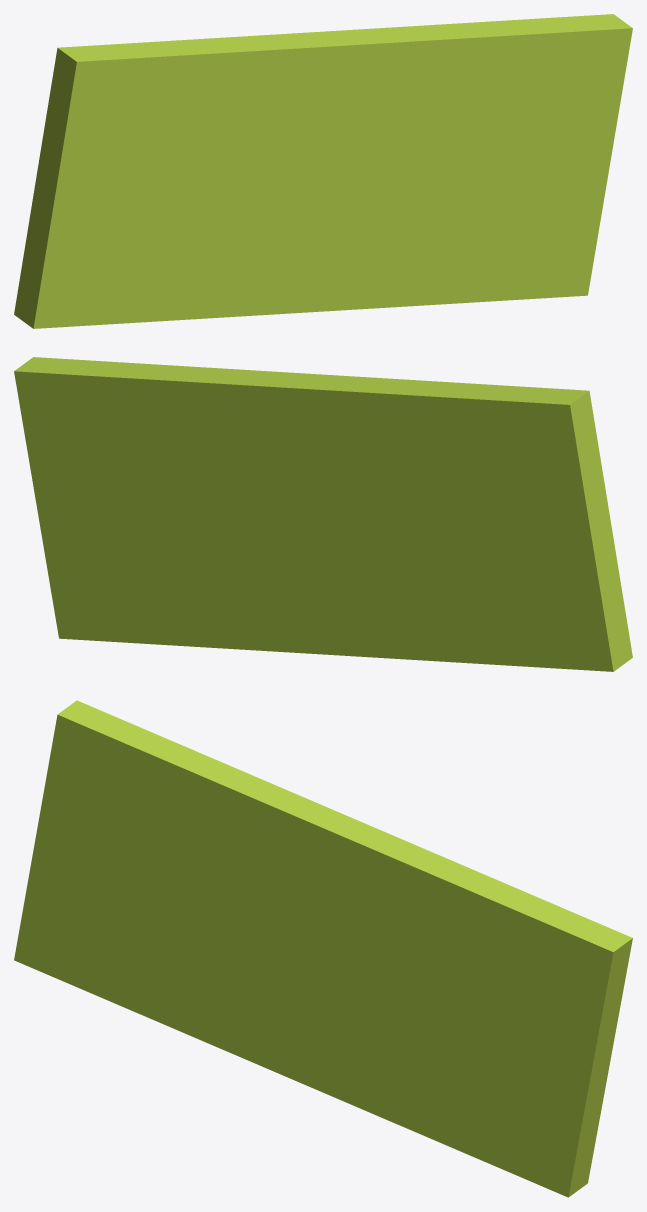
The picture shows the model from 3 angles, top to bottom: view 1: azimuth 30°, elevation 25°; view 2: azimuth 150°, elevation 25°; view 3: azimuth 330°, elevation 25°; orthographic projection.
Parts seen in each view (by area): view 1: osm-way27917482-F-1; view 2: osm-way27917482-F-1; view 3: osm-way27917482-F-1.
Part boxes in pixels (x1=…): osm-way27917482-F-1: x1=14, y1=14, x2=632, y2=328; osm-way27917482-F-1: x1=14, y1=357, x2=632, y2=671; osm-way27917482-F-1: x1=14, y1=700, x2=632, y2=1197.
Bounding box in the file's own units: 2.67 × 1.52 × 0.15.
